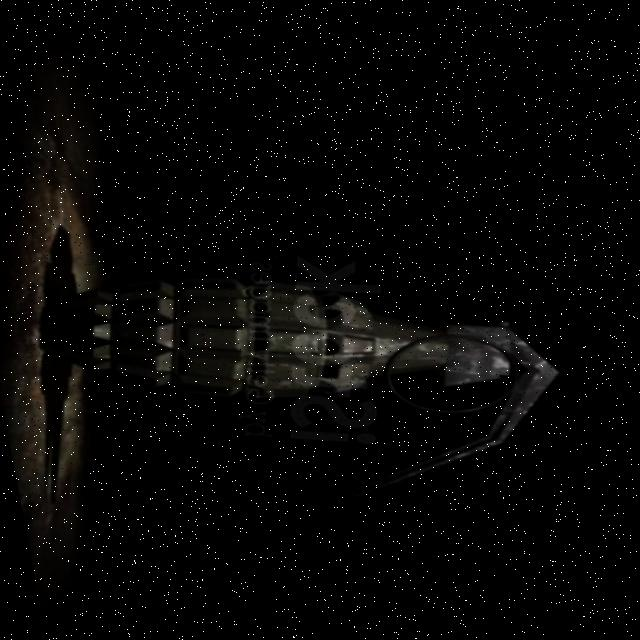grenade: (9, 164, 608, 607)
